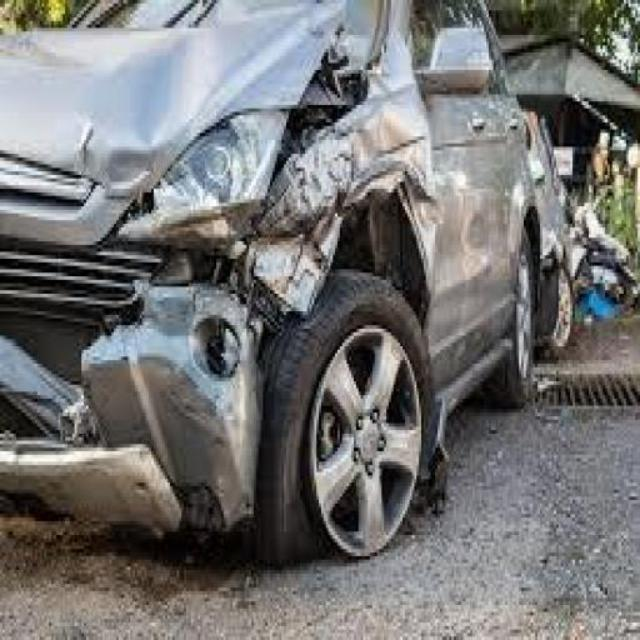no part: (3, 8, 442, 560)
